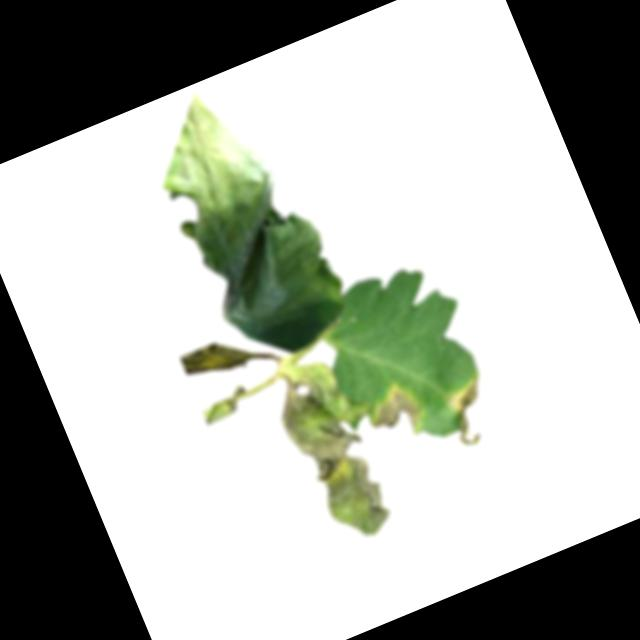Late_blight: (131, 69, 361, 378), (266, 351, 414, 549), (439, 377, 499, 451), (365, 377, 426, 443)
